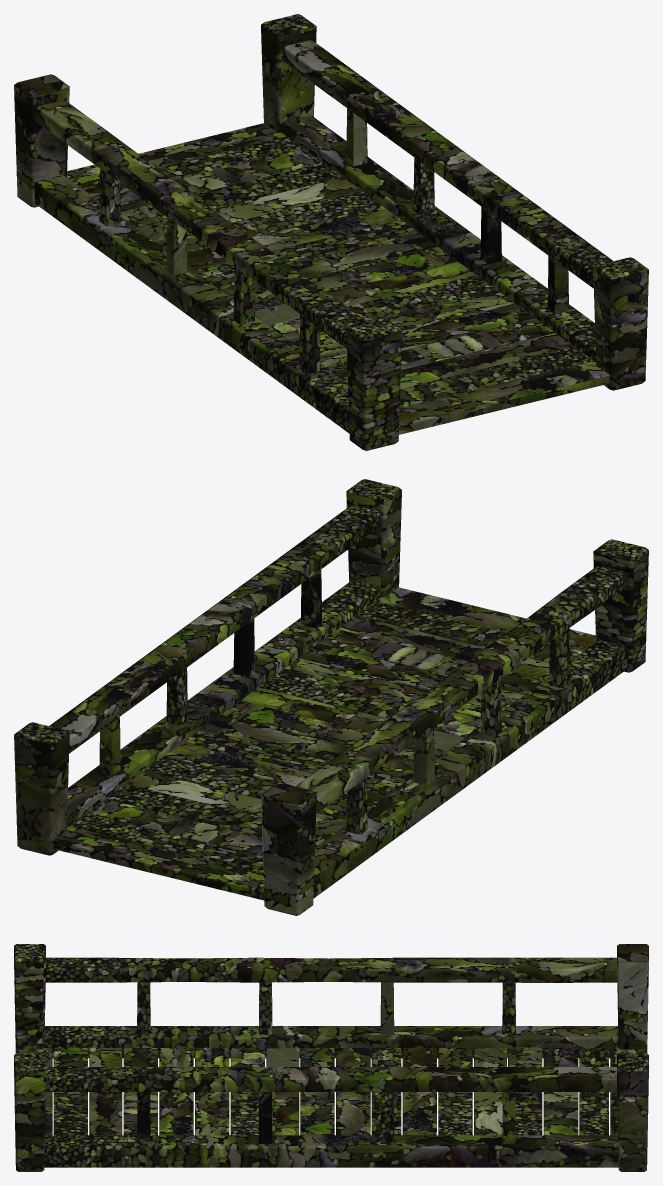
The model's file is Bridge1.fbx.
3 renders of one model, top to bottom at view 1: azimuth 30°, elevation 25°; view 2: azimuth 150°, elevation 25°; view 3: azimuth 270°, elevation 25°, orthographic. The views are drawn at different scales.
Parts seen in each view (by area): view 1: g.020, g.032, g.004, g.023, g.017, g.002, g.019, g.003, g.028, g.011, g.016, g.018 (+22 smaller); view 2: g.020, g.032, g.004, g.023, g.003, g.028, g.025, g.017, g.002, g.009, g.001, g.030 (+22 smaller); view 3: g.023, g.004, g.032, g.020, g.028, g.002, g.003, g.017, g.030, g.011, g.014, g (+22 smaller).
Part boxes in pixels (<box>): g.020: <box>34,175,349,433</box>; g.032: <box>282,40,613,288</box>; g.004: <box>35,100,366,348</box>; g.023: <box>281,114,595,361</box>; g.017: <box>346,317,401,450</box>; g.002: <box>593,257,648,390</box>; g.019: <box>398,361,609,434</box>; g.003: <box>14,74,69,207</box>; g.028: <box>261,14,316,132</box>; g.011: <box>399,346,592,408</box>; g.016: <box>120,162,342,227</box>; g.018: <box>187,205,400,270</box>; g.020: <box>313,640,628,898</box>; g.032: <box>49,505,380,753</box>; g.004: <box>296,565,627,813</box>; g.023: <box>67,580,381,827</box>; g.003: <box>261,782,316,915</box>; g.028: <box>14,722,69,855</box>; g.025: <box>53,826,264,900</box>; g.017: <box>593,539,648,672</box>; g.002: <box>346,479,401,596</box>; g.009: <box>260,672,480,737</box>; g.001: <box>70,813,263,873</box>; g.030: <box>87,799,262,856</box>; g.023: <box>43,1135,618,1167</box>; g.004: <box>45,957,617,982</box>; g.032: <box>45,1067,617,1091</box>; g.020: <box>44,1026,618,1058</box>; g.028: <box>617,1053,648,1171</box>; g.002: <box>14,1053,45,1171</box>; g.003: <box>617,944,648,1053</box>; g.017: <box>14,944,45,1053</box>; g.030: <box>543,1048,578,1135</box>; g.011: <box>53,1047,87,1135</box>; g.014: <box>195,1047,229,1135</box>; g: <box>438,1048,472,1135</box>.
Bounding box in the file's own units: 94.8 × 36.4 × 200.
